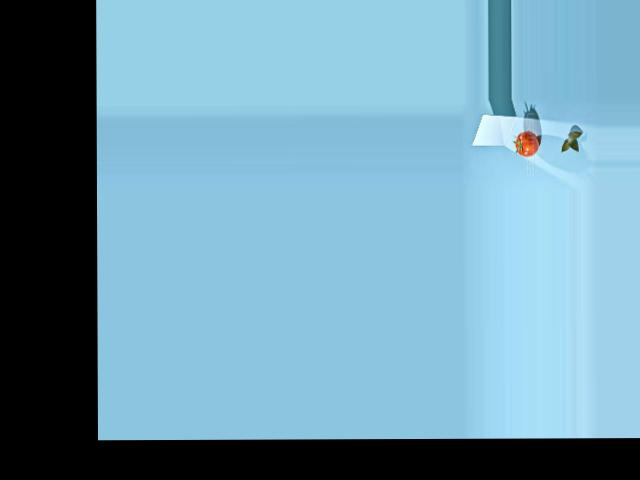tomato: (514, 130, 538, 157)
